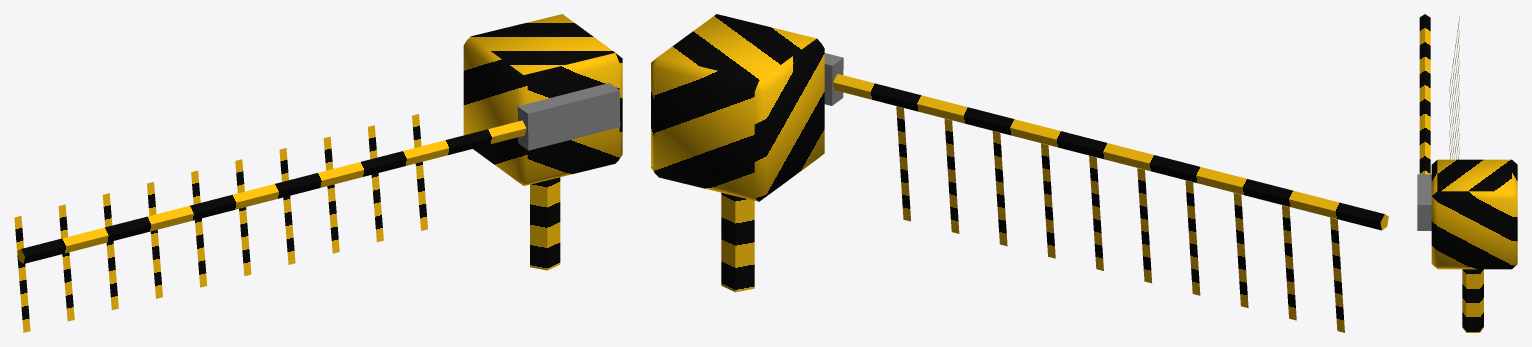
Rendered from HUMI_ANI01_L.glb.
3 renders of one model, left to right at view 1: azimuth 30°, elevation 25°; view 2: azimuth 150°, elevation 25°; view 3: azimuth 270°, elevation 25°, orthographic. The views are drawn at different scales.
Visible parts, largest first — view 1: Model, Joint_1, Joint_11; view 2: Model, Joint_1, Joint_11; view 3: Model, Joint_1, Joint_11.
Boxes of the visible parts, <box> form: Model: <box>463,14,622,270</box>; Joint_1: <box>17,83,620,263</box>; Joint_11: <box>14,114,427,332</box>; Model: <box>651,14,824,292</box>; Joint_1: <box>824,53,1388,230</box>; Joint_11: <box>896,106,1344,332</box>; Model: <box>1431,159,1517,332</box>; Joint_1: <box>1417,14,1431,230</box>; Joint_11: <box>1449,15,1459,159</box>.
Bounding box in the file's own units: 17.27 × 5.91 × 3.5.
Materials: 4 (4 with a texture image).
